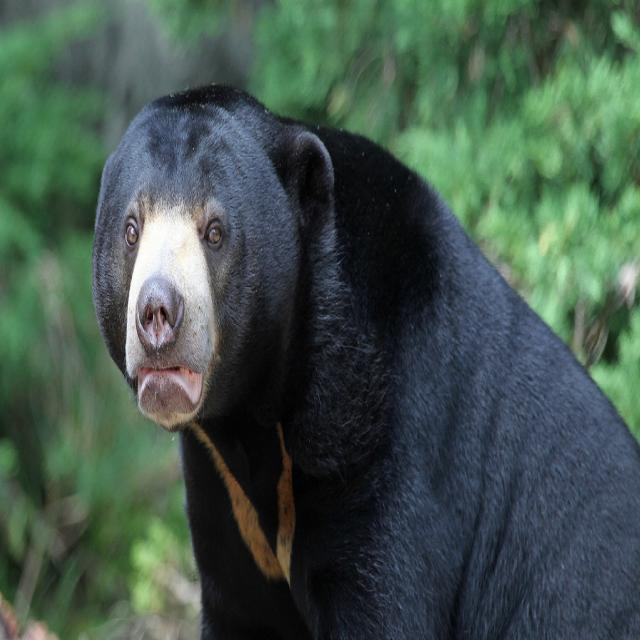Buffalo: (90, 86, 640, 640)
